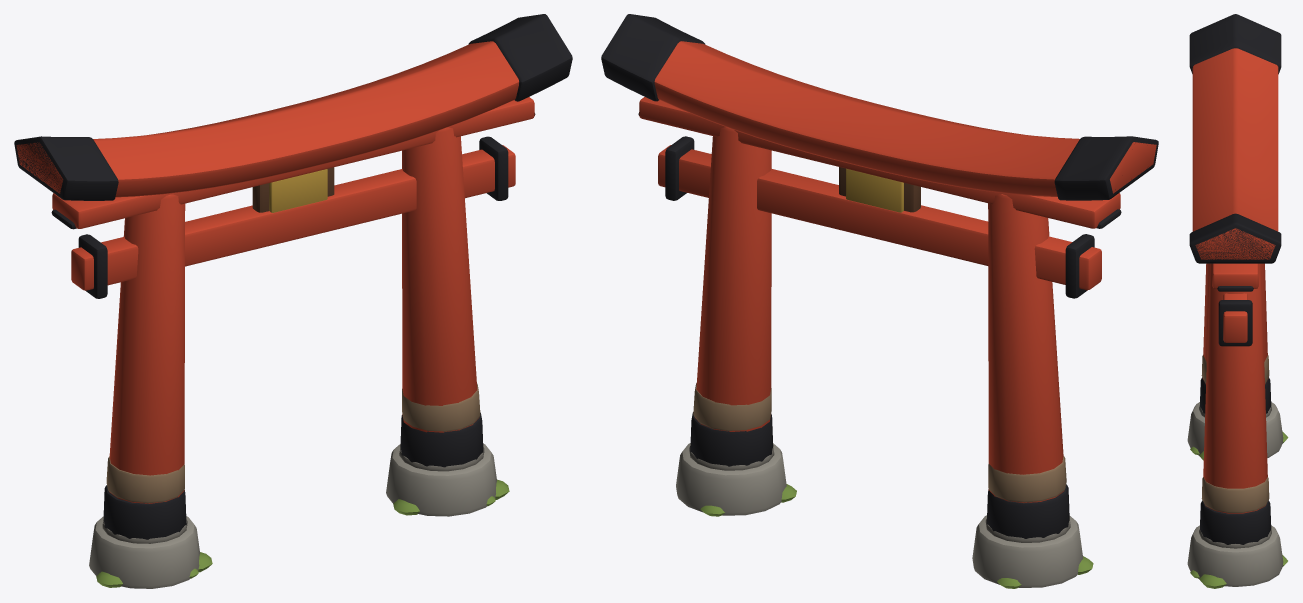
The model's file is torii.glb.
3 views of the same model, side by side, from view 1: azimuth 30°, elevation 25°; view 2: azimuth 150°, elevation 25°; view 3: azimuth 270°, elevation 25° (orthographic). The views are drawn at different scales.
Visible parts, largest first — view 1: kasagi, pillar_-1, pillar_1, nuki, shimaki, base_-1, base_1, kasagi_tip_l, kasagi_tip_r, pillar_foot_-1, pillar_foot_1, pillar_faded_-1 (+5 smaller); view 2: kasagi, pillar_-1, pillar_1, nuki, shimaki, base_1, base_-1, kasagi_tip_r, kasagi_tip_l, pillar_foot_-1, pillar_foot_1, pillar_faded_-1 (+4 smaller); view 3: kasagi, pillar_1, base_1, kasagi_tip_r, kasagi_tip_l, pillar_foot_1, pillar_faded_1, base_-1, shimaki, nuki, kusabi_1, pillar_-1 (+5 smaller).
Boxes of the visible parts, x1,y1,x2,y2 form: kasagi: (16,41,518,197); pillar_-1: (109,194,185,503); pillar_1: (402,127,479,432); nuki: (71,145,515,290); shimaki: (52,97,534,228); base_-1: (89,516,199,588); base_1: (386,443,496,516); kasagi_tip_l: (14,136,118,200); kasagi_tip_r: (468,14,572,101); pillar_foot_-1: (103,485,186,539); pillar_foot_1: (400,412,483,467); pillar_faded_-1: (106,456,184,503); kasagi: (654,41,1156,196); pillar_-1: (988,194,1063,502); pillar_1: (694,127,771,431); nuki: (658,145,1101,290); shimaki: (639,97,1120,228); base_1: (676,443,786,515); base_-1: (972,515,1083,587); kasagi_tip_r: (601,14,705,101); kasagi_tip_l: (1054,136,1158,200); pillar_foot_-1: (986,484,1069,538); pillar_foot_1: (690,412,773,466); pillar_faded_-1: (988,456,1066,502); kasagi: (1192,48,1278,259); pillar_1: (1203,263,1267,513); base_1: (1187,525,1283,586); kasagi_tip_r: (1189,213,1281,263); kasagi_tip_l: (1189,14,1281,74); pillar_foot_1: (1200,500,1271,544); pillar_faded_1: (1201,477,1269,512); base_-1: (1187,402,1283,457); shimaki: (1212,263,1258,288); nuki: (1223,293,1247,342); kusabi_1: (1218,300,1252,346); pillar_-1: (1202,263,1268,384).
Size of what is drawn, in the model's own units: 4.1 by 3.53 by 0.8299.
